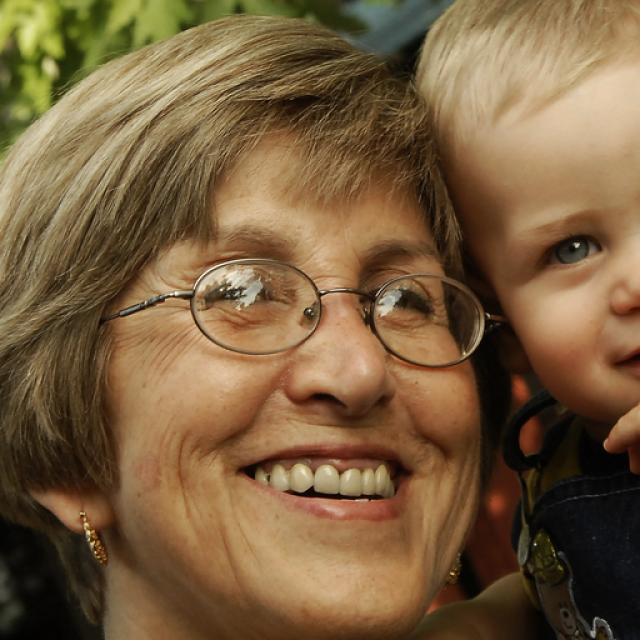happy: (105, 138, 485, 628), (455, 38, 640, 422)
